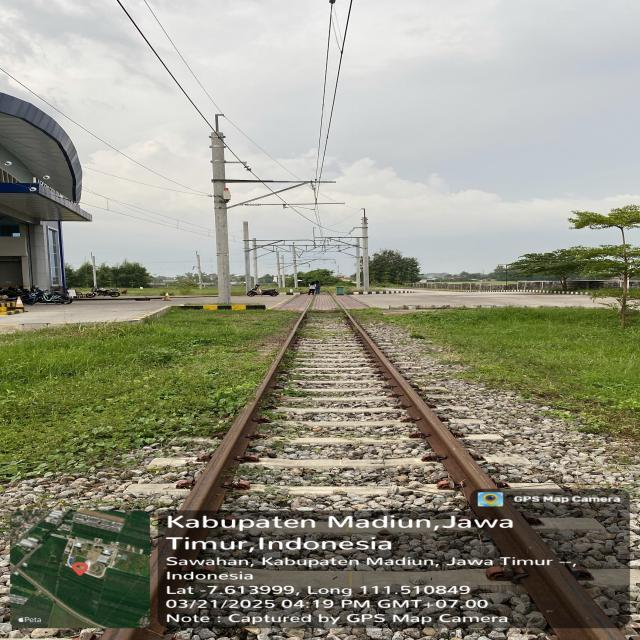rail-detection: (350, 317, 626, 640), (155, 312, 305, 626)
